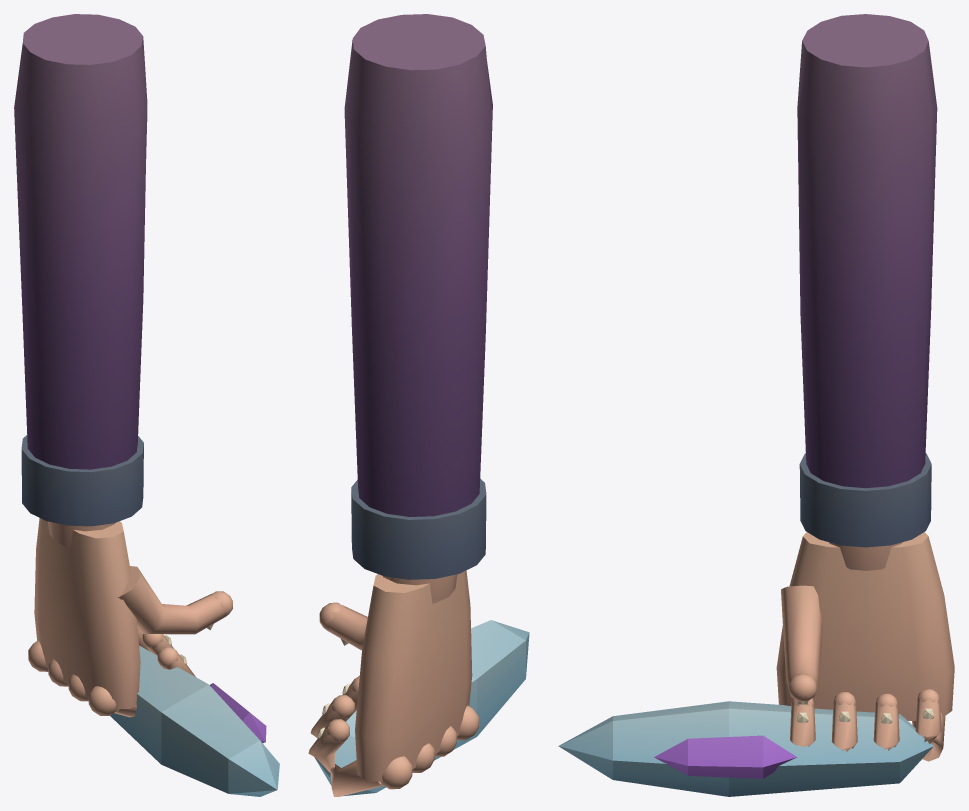
The model's file is merchant_nyra_fore_r.glb.
3 views of the same model, side by side, from view 1: azimuth 30°, elevation 25°; view 2: azimuth 150°, elevation 25°; view 3: azimuth 270°, elevation 25° (orthographic). The views are drawn at different scales.
Parts seen in each view (by area): view 1: merchant_nyra_fore_r; view 2: merchant_nyra_fore_r; view 3: merchant_nyra_fore_r.
Boxes of the visible parts, left/top/right/bottom form: merchant_nyra_fore_r: left=14, top=14, right=279, bottom=796; merchant_nyra_fore_r: left=308, top=14, right=529, bottom=796; merchant_nyra_fore_r: left=558, top=14, right=954, bottom=796.
Bounding box in the file's own units: 0.3521 × 1.34 × 0.6616.
1 material, 1 textured.
